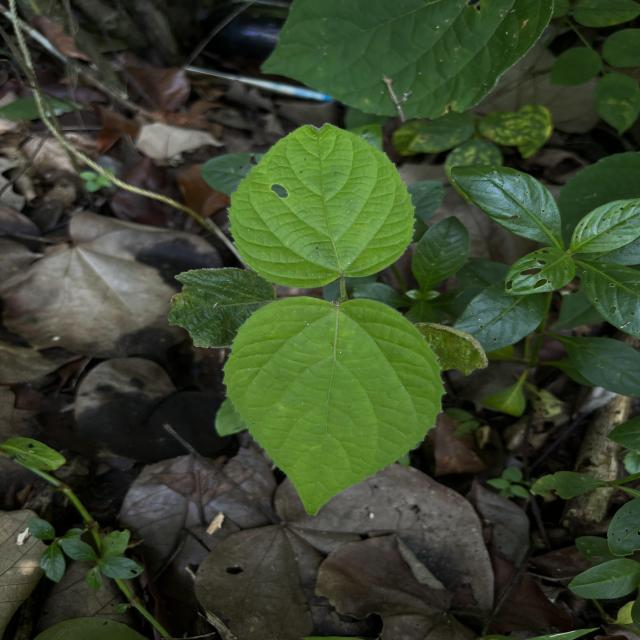Clerodendrum infortunatum: (222, 296, 448, 518), (224, 120, 419, 292)
